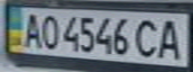4: (93, 15, 115, 54), (60, 12, 81, 52)
5: (78, 14, 96, 53)
6: (112, 15, 136, 56)
A: (154, 16, 187, 61), (18, 10, 45, 48)
C: (133, 16, 163, 60)
O: (39, 12, 60, 51)
